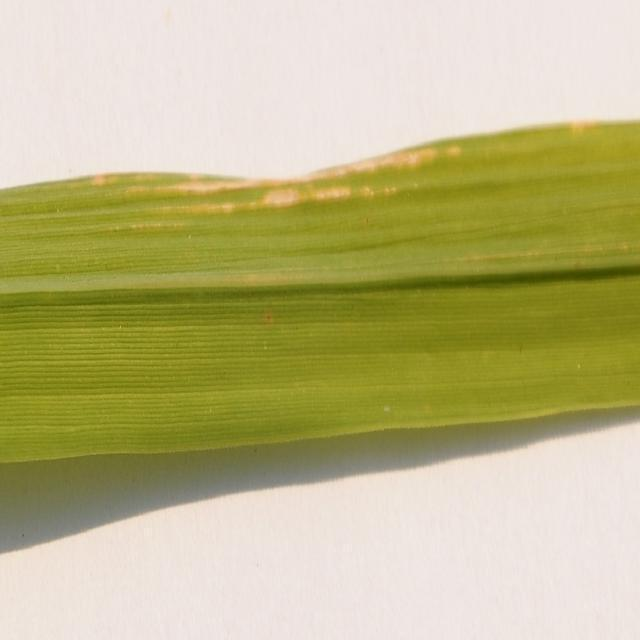Bacterial_Leaf_Blight: (0, 117, 640, 469)
